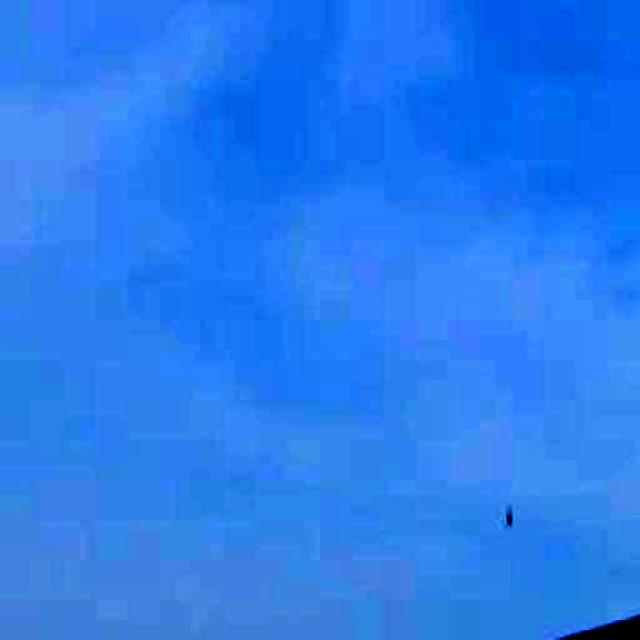drone: (486, 489, 530, 541)
